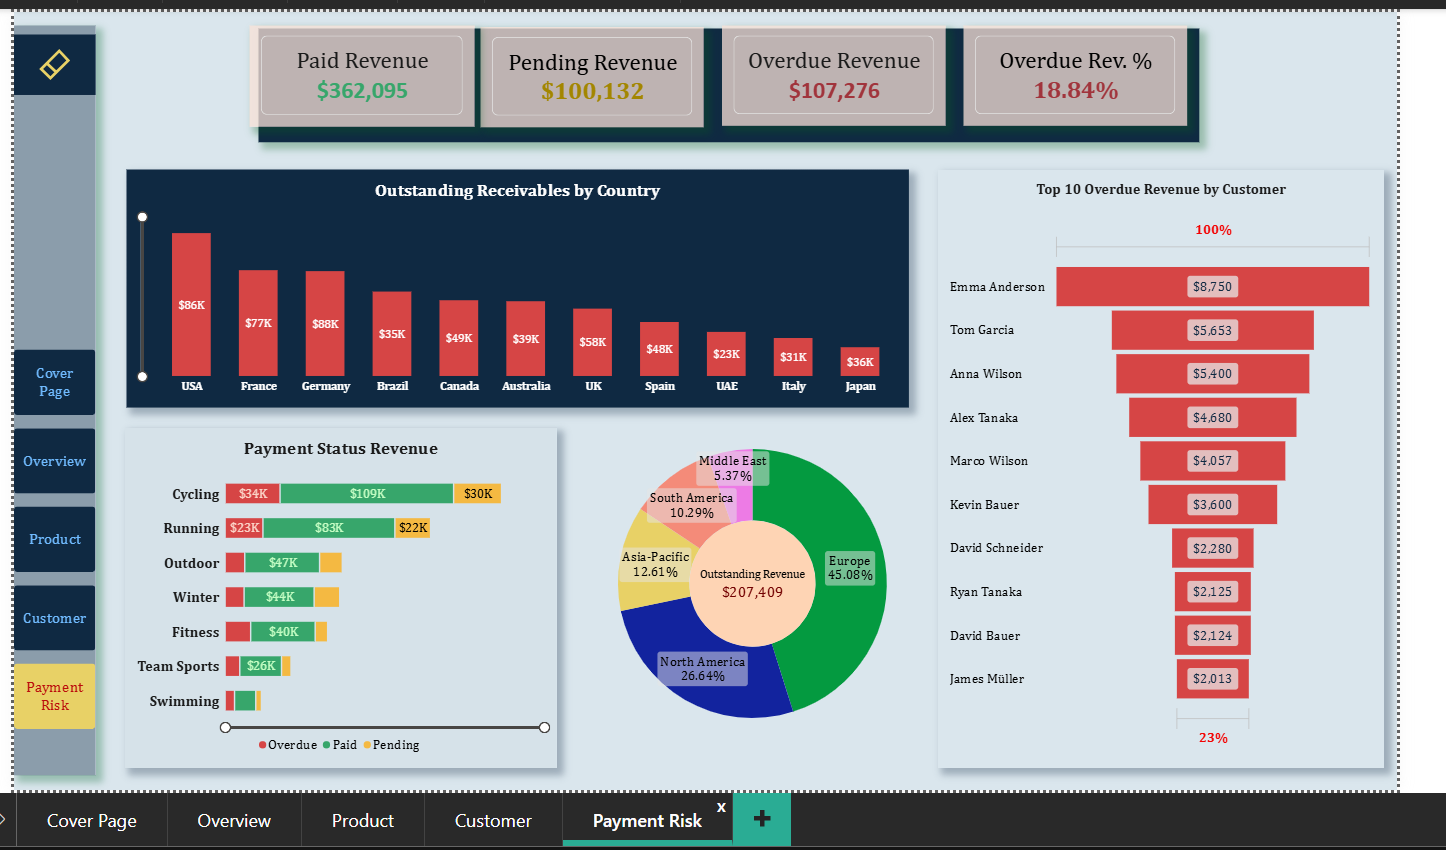

Layout of this report page (visuals, bound fields, positions):
{"tool":"powerbi","page":{"name":"Payment Risk","canvas":[1920,1080],"ordinal":4},"visuals":[{"type":"shape","box":[0,18.9,113.7,1041.4],"z":0,"group":"g1"},{"type":"shape","box":[340,23.6,1306.5,158.3],"z":0,"group":"g2"},{"type":"barChart","title":"Payment Status Revenue","fields":{"Category":["Product.ProductGroup"],"Series":["Orders.PaymentStatus"],"Y":["Sum(Orders.Revenue)"]},"box":[155,576.5,599.2,473.2],"z":0},{"type":"columnChart","title":"Outstanding Receivables by Country","fields":{"Category":["Geo.Country"],"Y":["Calculation.Outstanding Revenue"]},"box":[155.9,219.7,1086.8,330.8],"z":1000},{"type":"cardVisual","fields":{"Data":["Calculation.Pending Revenue"]},"box":[648.2,20.6,310.3,139],"z":2000,"group":"g2"},{"type":"cardVisual","fields":{"Data":["Calculation.Paid Revenue"]},"box":[327.4,18.9,312.7,140.6],"z":3000,"group":"g2"},{"type":"cardVisual","fields":{"Data":["Calculation.Overdue Rev. %"]},"box":[1318.1,18.9,310.5,139.4],"z":3000,"group":"g2"},{"type":"funnel","title":"Top 10 Overdue Revenue by Customer","fields":{"Category":["Customers.Customer"],"Y":["Calculation.Overdue Revenue"]},"box":[1283.2,219,619.9,830.7],"z":3000},{"type":"group","id":"g1","title":"Group 3","box":[0,18.9,113.3,1040.9],"z":3250},{"type":"pageNavigator","box":[0,468,113,529],"z":3500},{"type":"cardVisual","fields":{"Data":["Calculation.Overdue Revenue"]},"box":[982.6,18.9,310.5,139.4],"z":4000,"group":"g2"},{"type":"donutChart","title":"Outstanding Revenue","fields":{"Category":["Geo.Region"],"Y":["Calculation.Outstanding Revenue"]},"box":[467,539.3,1117.9,510.4],"z":4000},{"type":"actionButton","box":[0,31,113,84],"z":6000},{"type":"group","id":"g2","title":"Group 1","box":[327.4,18.9,1319.9,163.7],"z":6001}]}

Visuals, with their boxes on the page's 1920x1080 design canvas (x1, y1, x2, y2). These are canvas units, not pixel positions in the 1446x850 screenshot, which may show the page scaled, cropped or inside an application window:
shape: bbox=(0, 19, 114, 1060)
shape: bbox=(340, 24, 1646, 182)
"Payment Status Revenue" barChart: bbox=(155, 576, 754, 1050)
"Outstanding Receivables by Country" columnChart: bbox=(156, 220, 1243, 550)
cardVisual - Calculation.Pending Revenue: bbox=(648, 21, 958, 160)
cardVisual - Calculation.Paid Revenue: bbox=(327, 19, 640, 160)
cardVisual - Calculation.Overdue Rev. %: bbox=(1318, 19, 1629, 158)
"Top 10 Overdue Revenue by Customer" funnel: bbox=(1283, 219, 1903, 1050)
"Group 3" group: bbox=(0, 19, 113, 1060)
pageNavigator: bbox=(0, 468, 113, 997)
cardVisual - Calculation.Overdue Revenue: bbox=(983, 19, 1293, 158)
"Outstanding Revenue" donutChart: bbox=(467, 539, 1585, 1050)
actionButton: bbox=(0, 31, 113, 115)
"Group 1" group: bbox=(327, 19, 1647, 183)
